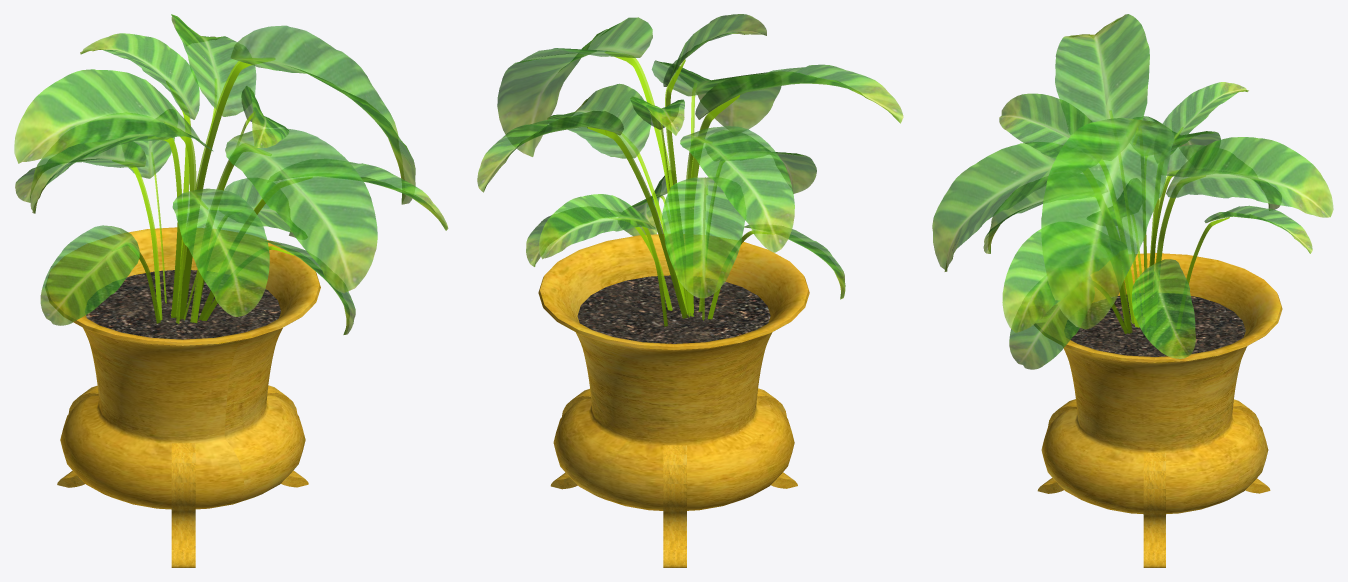
File: Flower.glb
The picture shows the model from 3 angles, left to right: view 1: azimuth 30°, elevation 25°; view 2: azimuth 150°, elevation 25°; view 3: azimuth 270°, elevation 25°; orthographic projection. The views are drawn at different scales.
Parts seen in each view (by area): view 1: plant1_obj_cleaner_materialmerger_gles; view 2: plant1_obj_cleaner_materialmerger_gles; view 3: plant1_obj_cleaner_materialmerger_gles.
Boxes of the visible parts, bbox=[...] form: plant1_obj_cleaner_materialmerger_gles: bbox=[14, 14, 448, 567]; plant1_obj_cleaner_materialmerger_gles: bbox=[477, 14, 903, 567]; plant1_obj_cleaner_materialmerger_gles: bbox=[932, 14, 1333, 567].
Bounding box in the file's own units: 2.64 × 3 × 2.51.
5 materials, 4 textured.
